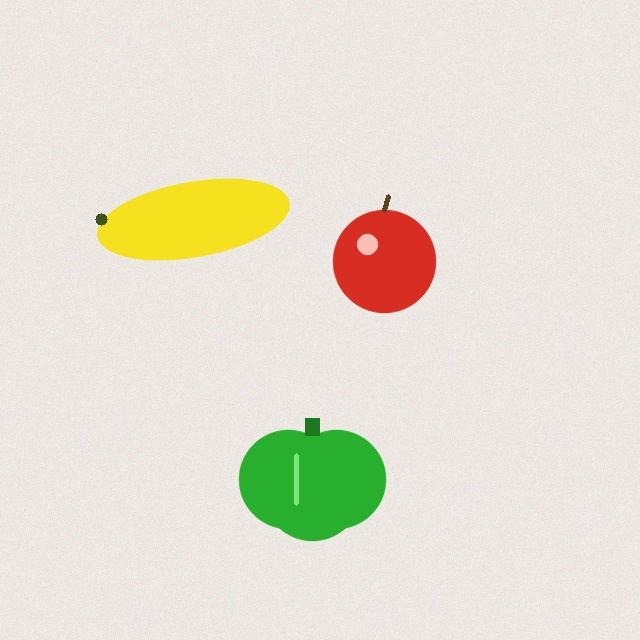Fresh apple: (333, 196, 435, 312)
Fresh banana: (92, 173, 294, 265)
Fresh bell pepper: (239, 418, 385, 540)
